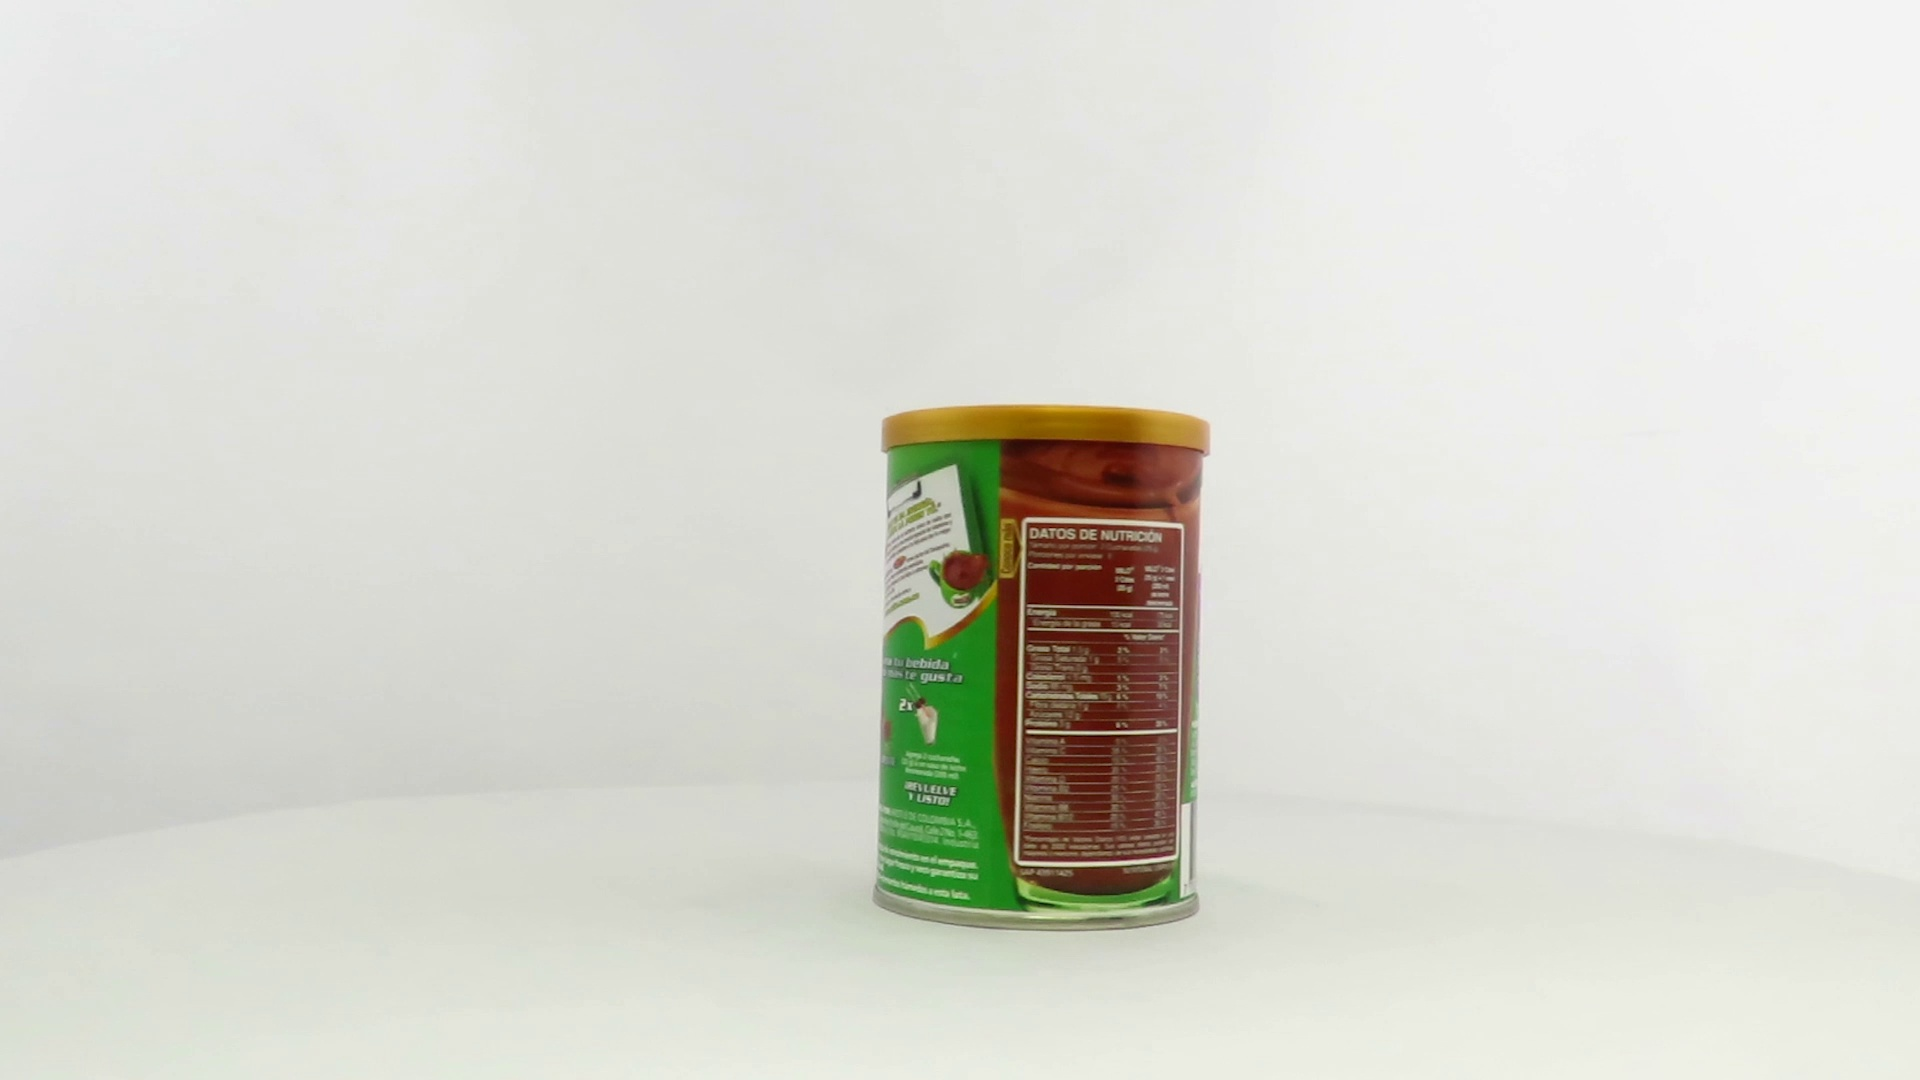COL0170203LAT20000: (866, 400, 1217, 938)
